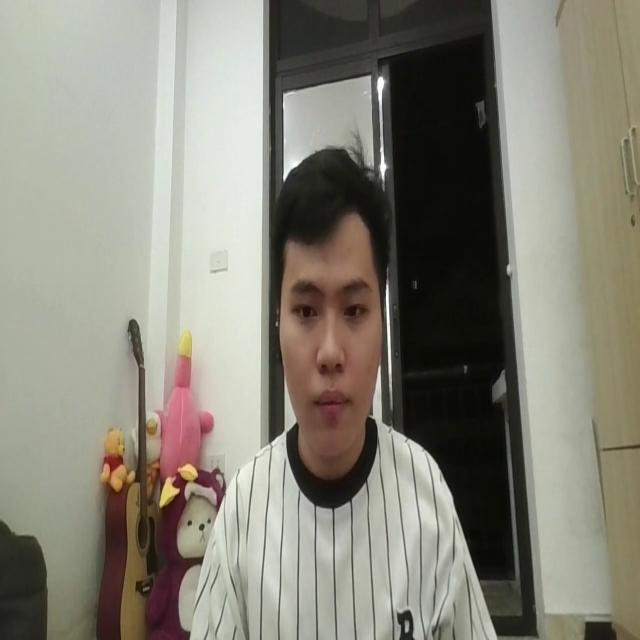student: (193, 143, 493, 640)
